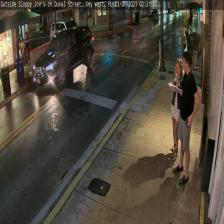person: (172, 51, 201, 184), (170, 58, 184, 160)
